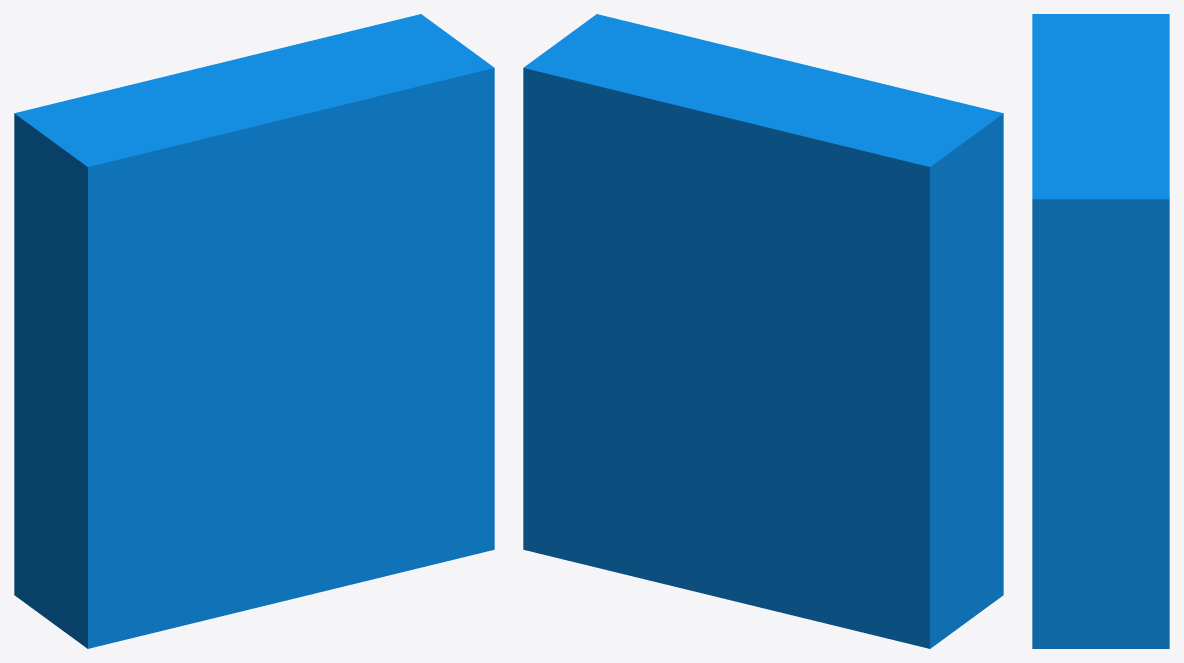
The model's file is Produce_Oreo.fbx.
The picture shows the model from 3 angles, left to right: view 1: azimuth 30°, elevation 25°; view 2: azimuth 150°, elevation 25°; view 3: azimuth 270°, elevation 25°; orthographic projection. The views are drawn at different scales.
Parts seen in each view (by area): view 1: Box005; view 2: Box005; view 3: Box005.
Part boxes in pixels (left/top/right/bottom): Box005: left=14, top=14, right=494, bottom=648; Box005: left=523, top=14, right=1003, bottom=648; Box005: left=1032, top=14, right=1169, bottom=648.
Bounding box in the file's own units: 11.64 × 13.17 × 3.65.
